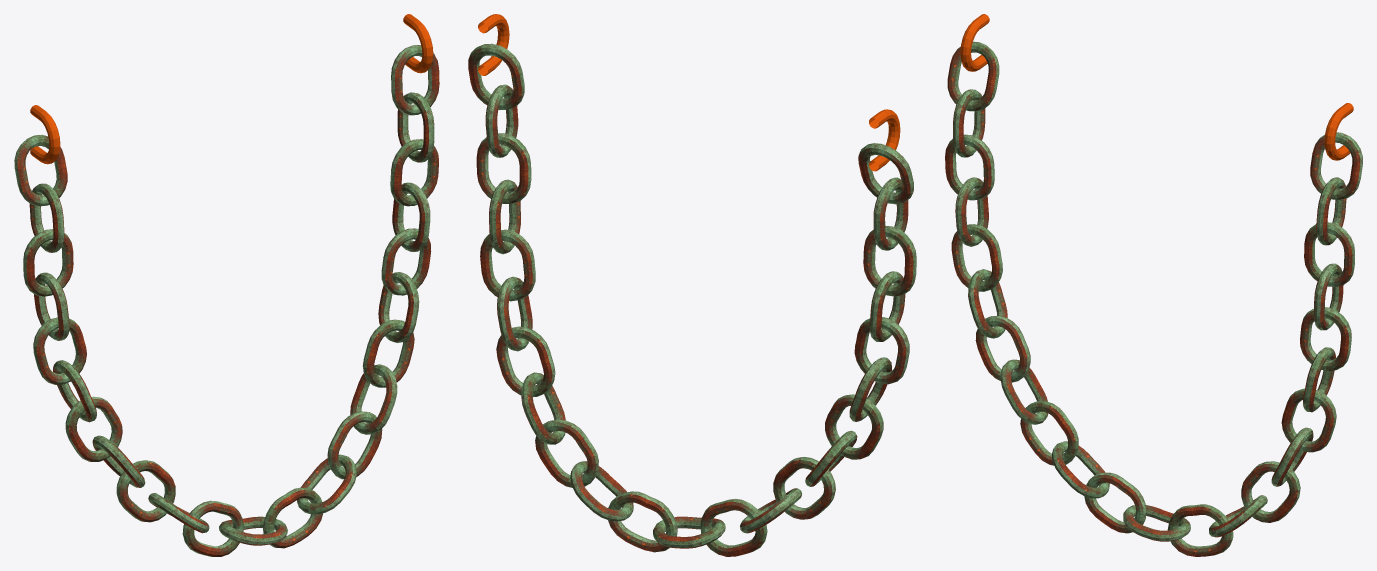
Rendered from chains.fbx.
The picture shows the model from 3 angles, left to right: view 1: azimuth 30°, elevation 25°; view 2: azimuth 150°, elevation 25°; view 3: azimuth 330°, elevation 25°; orthographic projection. The views are drawn at different scales.
Visible parts, largest first — view 1: ChainLink, ChainHooks; view 2: ChainLink, ChainHooks; view 3: ChainLink, ChainHooks.
Boxes of the visible parts, <box> form: ChainLink: <box>14,45,439,556</box>; ChainHooks: <box>30,14,433,164</box>; ChainLink: <box>468,43,916,556</box>; ChainHooks: <box>478,14,900,171</box>; ChainLink: <box>945,41,1362,556</box>; ChainHooks: <box>960,14,1353,160</box>.
Size of the model in its own units: 975 by 1068 by 161.
